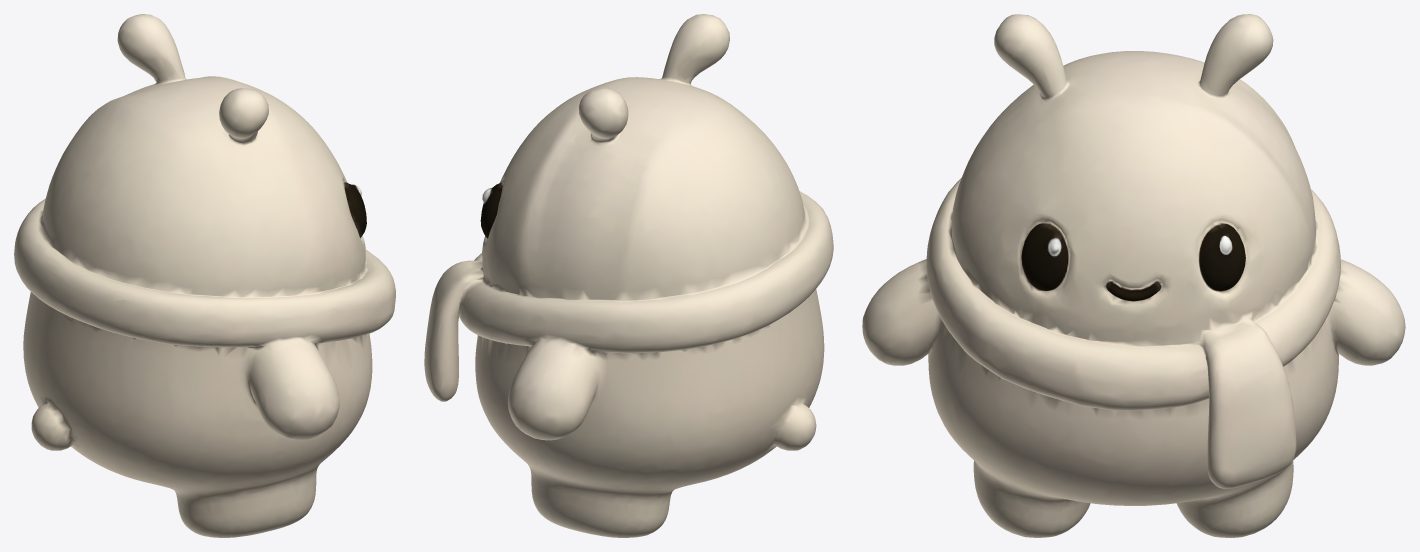
The model's file is mascot.glb.
3 renders of one model, left to right at view 1: azimuth 30°, elevation 25°; view 2: azimuth 150°, elevation 25°; view 3: azimuth 270°, elevation 25°, orthographic. The views are drawn at different scales.
Visible parts, largest first — view 1: tripo_node_a761da12-f2b9-4029-bec5-acee7d544a63; view 2: tripo_node_a761da12-f2b9-4029-bec5-acee7d544a63; view 3: tripo_node_a761da12-f2b9-4029-bec5-acee7d544a63.
Part boxes in pixels (x1=…): tripo_node_a761da12-f2b9-4029-bec5-acee7d544a63: x1=14, y1=14, x2=395, y2=537; tripo_node_a761da12-f2b9-4029-bec5-acee7d544a63: x1=424, y1=14, x2=833, y2=537; tripo_node_a761da12-f2b9-4029-bec5-acee7d544a63: x1=862, y1=14, x2=1405, y2=537.
Bounding box in the file's own units: 0.8039 × 0.9738 × 0.9794.
1 material, 1 textured.
